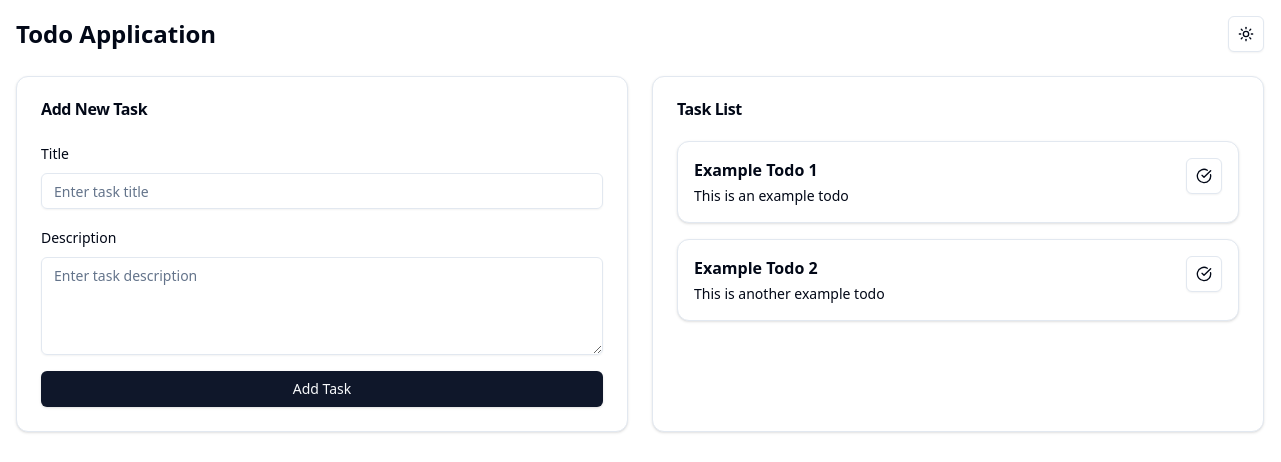
Test: Todo App › should add a new todo
// Fill out the form
Type "Test Todo" into the field labelled "Title".
click(322, 191); type("Test Todo")  # box [41,173,603,209]
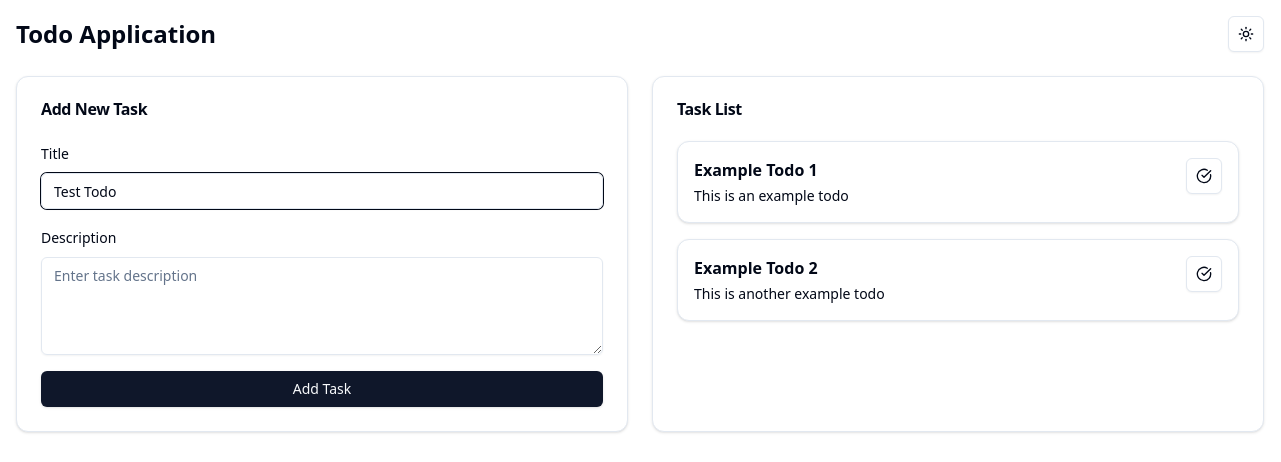
Type "Test Description" into the text box labelled "Description".
click(322, 306); type("Test Description")  # box [41,257,603,355]
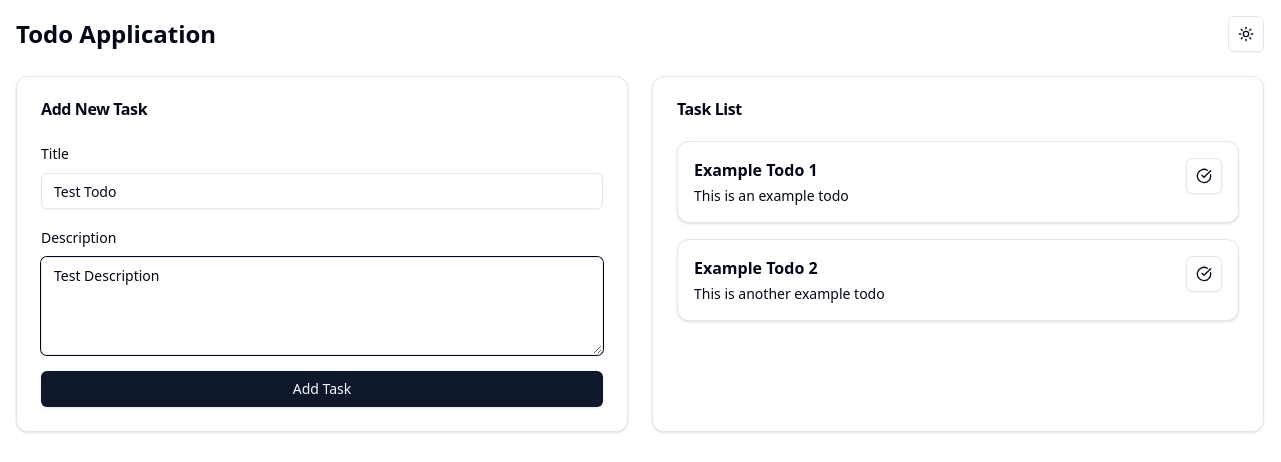
// Submit the form
Submit the form, box [41,141,603,407]
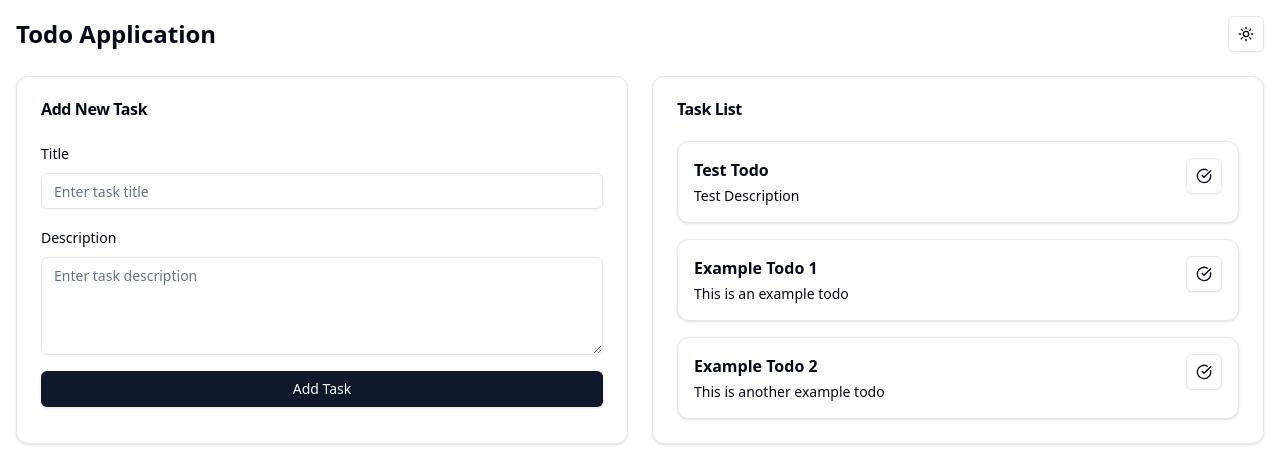
Expected: the heading "Test Todo" is shown, [694,159,769,181]
Expected: the text "Test Description" is shown, [694,186,799,205]
